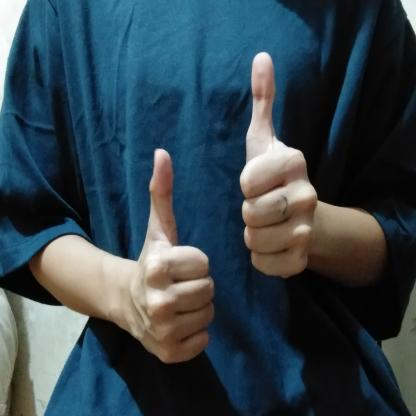which: (131, 48, 321, 373)
